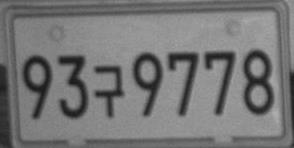3: (58, 55, 88, 119)
7: (204, 50, 237, 115), (167, 51, 199, 117)
8: (243, 49, 274, 115)
9: (132, 51, 163, 116), (22, 54, 52, 119)
구: (93, 65, 125, 118)
